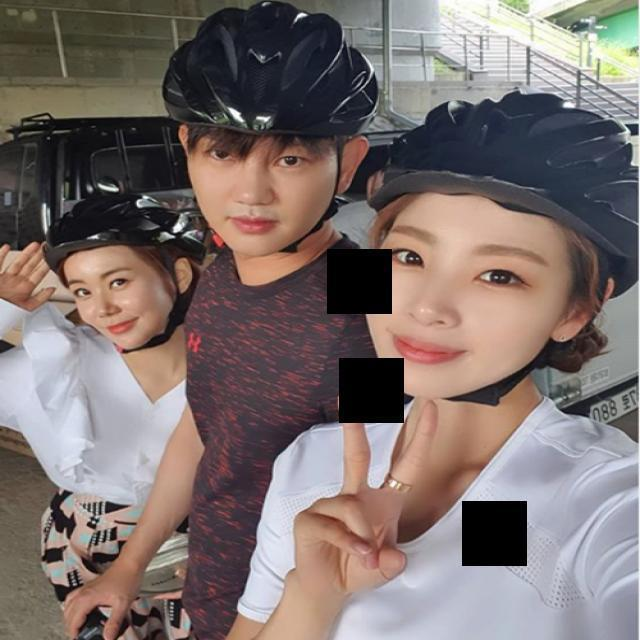helmet: (366, 89, 638, 299), (161, 0, 379, 137), (41, 189, 214, 272)
